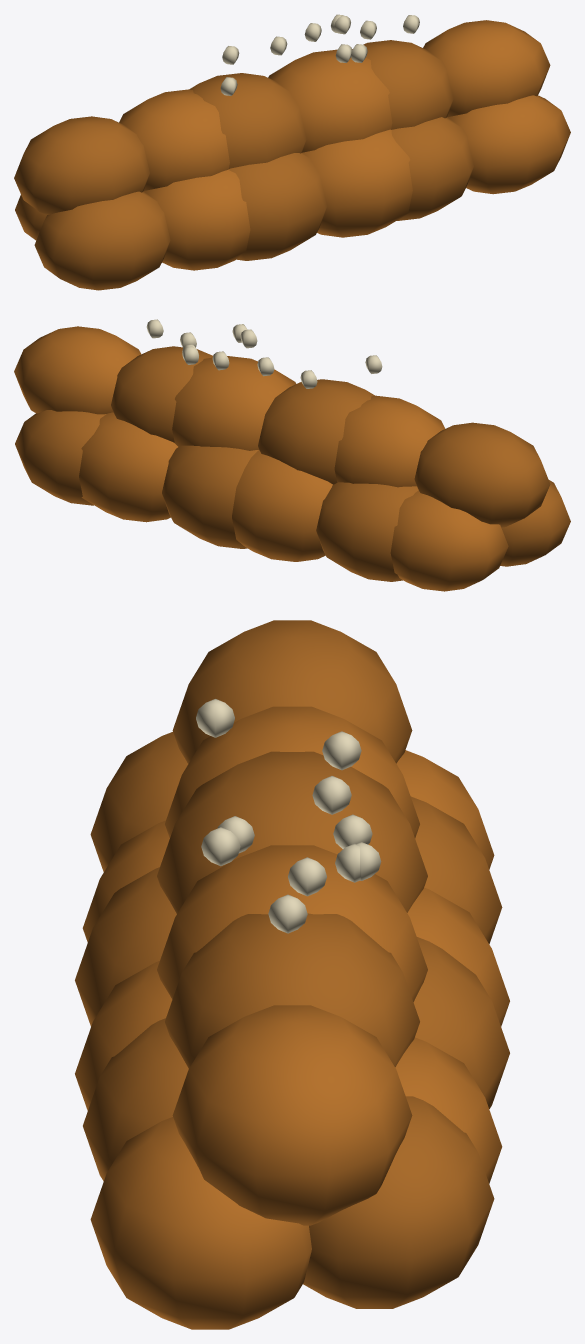
Rendered from food_challah.glb.
3 renders of one model, top to bottom at view 1: azimuth 30°, elevation 25°; view 2: azimuth 150°, elevation 25°; view 3: azimuth 270°, elevation 25°, orthographic. The views are drawn at different scales.
Parts seen in each view (by area): view 1: food_challah; view 2: food_challah; view 3: food_challah.
Boxes of the visible parts, <box> form: food_challah: <box>14,14,570,290</box>; food_challah: <box>14,319,570,591</box>; food_challah: <box>75,620,509,1329</box>.
Size of the model in its own units: 0.7286 by 0.2422 by 0.2652.
